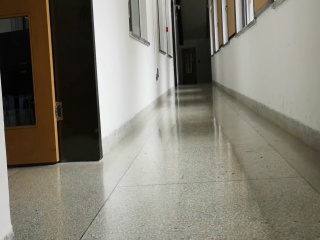room: (1, 4, 102, 158)
